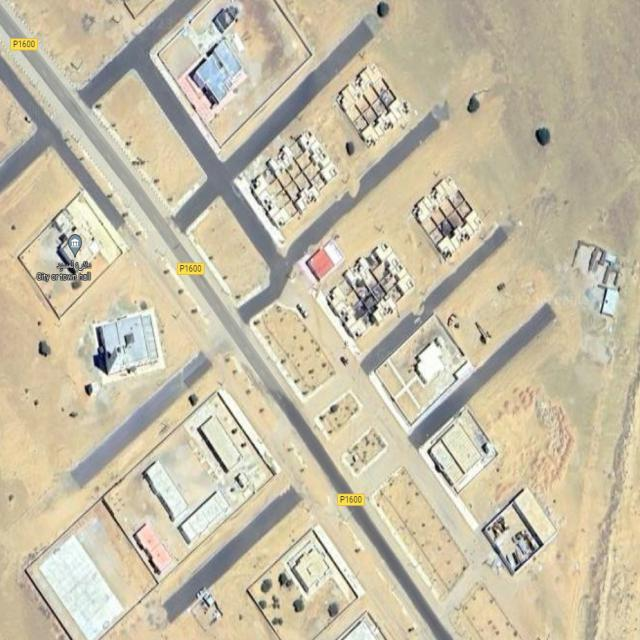Countryside roofs: (376, 317, 494, 419), (244, 126, 346, 230), (477, 486, 575, 574), (424, 408, 521, 494), (405, 174, 476, 275), (30, 198, 114, 281), (88, 304, 172, 386), (348, 43, 410, 150), (180, 17, 249, 110), (576, 233, 630, 324), (192, 400, 245, 469), (125, 508, 171, 584), (137, 452, 184, 524), (302, 228, 345, 289), (285, 538, 324, 604), (180, 486, 219, 552)
